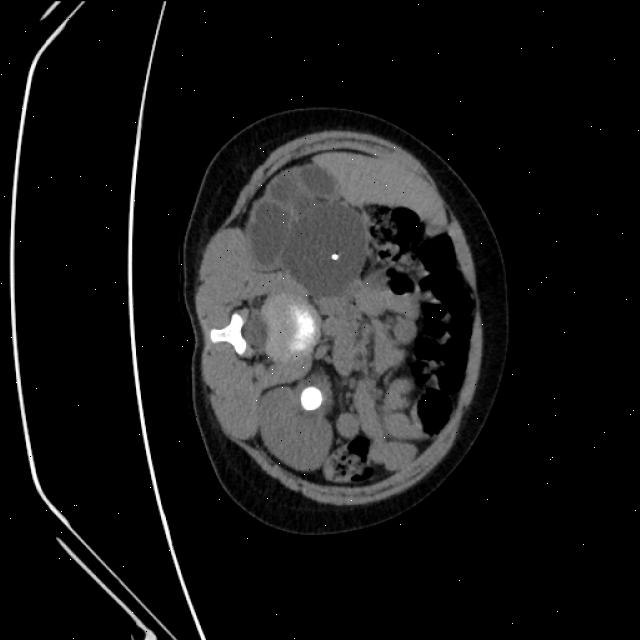kidneystone: (299, 386, 322, 411), (331, 254, 339, 261)
